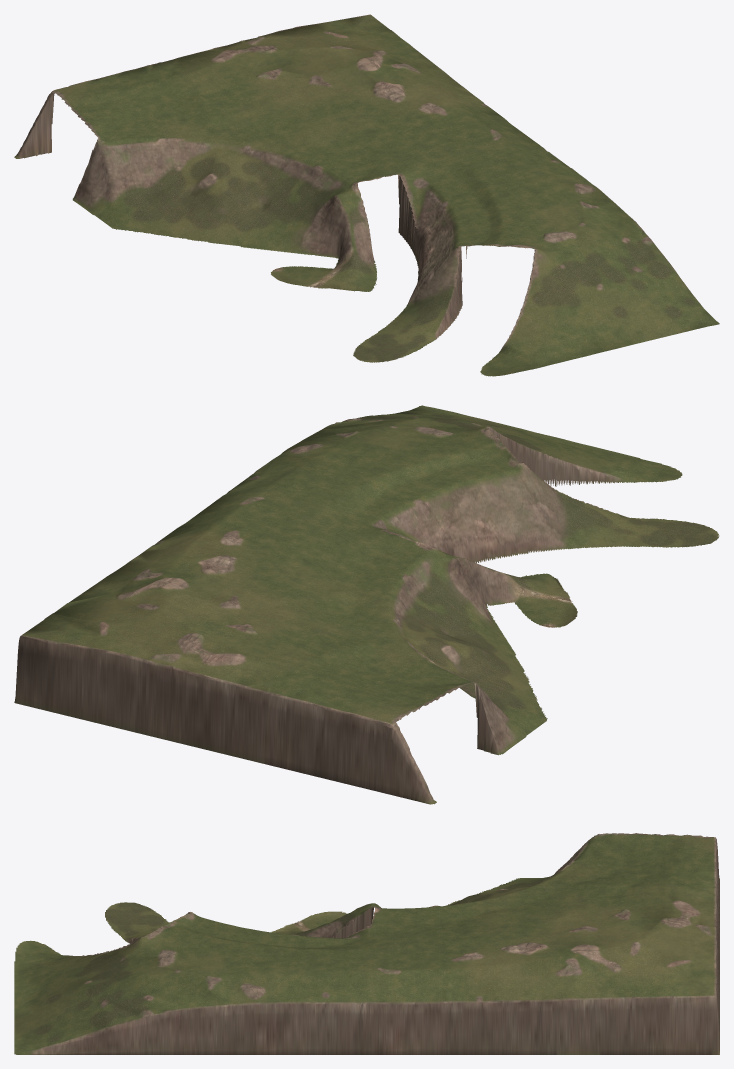
Rendered from mountain.glb.
The picture shows the model from 3 angles, top to bottom: view 1: azimuth 30°, elevation 25°; view 2: azimuth 150°, elevation 25°; view 3: azimuth 270°, elevation 25°; orthographic projection. The views are drawn at different scales.
Parts seen in each view (by area): view 1: MOUNTAIN_fixed, COVER_C2, COVER_C1, COVER_C3; view 2: MOUNTAIN_fixed, COVER_C2, COVER_C1, COVER_C3; view 3: MOUNTAIN_fixed, COVER_C1, COVER_C2, COVER_C3.
Part boxes in pixels (bbox=[...]): MOUNTAIN_fixed: bbox=[14, 14, 719, 376]; COVER_C2: bbox=[271, 81, 518, 191]; COVER_C1: bbox=[51, 71, 322, 149]; COVER_C3: bbox=[439, 169, 544, 258]; MOUNTAIN_fixed: bbox=[14, 405, 719, 804]; COVER_C2: bbox=[226, 475, 435, 608]; COVER_C1: bbox=[231, 600, 478, 741]; COVER_C3: bbox=[316, 426, 523, 510]; MOUNTAIN_fixed: bbox=[14, 837, 719, 1054]; COVER_C1: bbox=[496, 833, 716, 928]; COVER_C2: bbox=[310, 897, 581, 966]; COVER_C3: bbox=[138, 912, 322, 965].
Bounding box in the file's own units: 0.398 × 0.0759 × 0.6693.
Materials: 4 (4 with a texture image).
